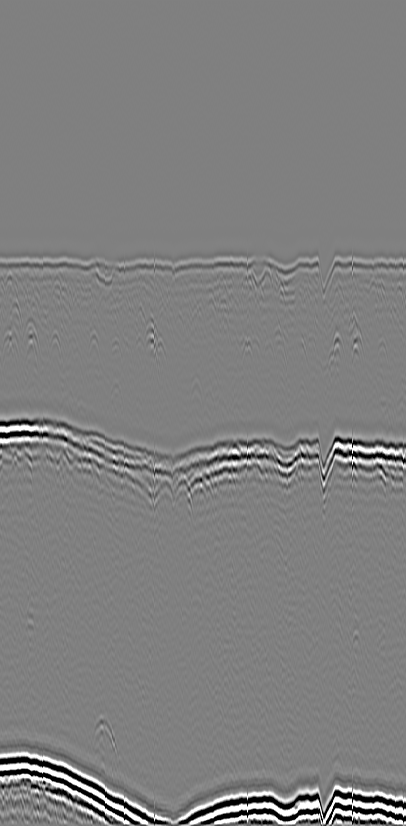fault: (304, 418, 350, 508), (310, 240, 344, 305), (244, 247, 275, 297)
